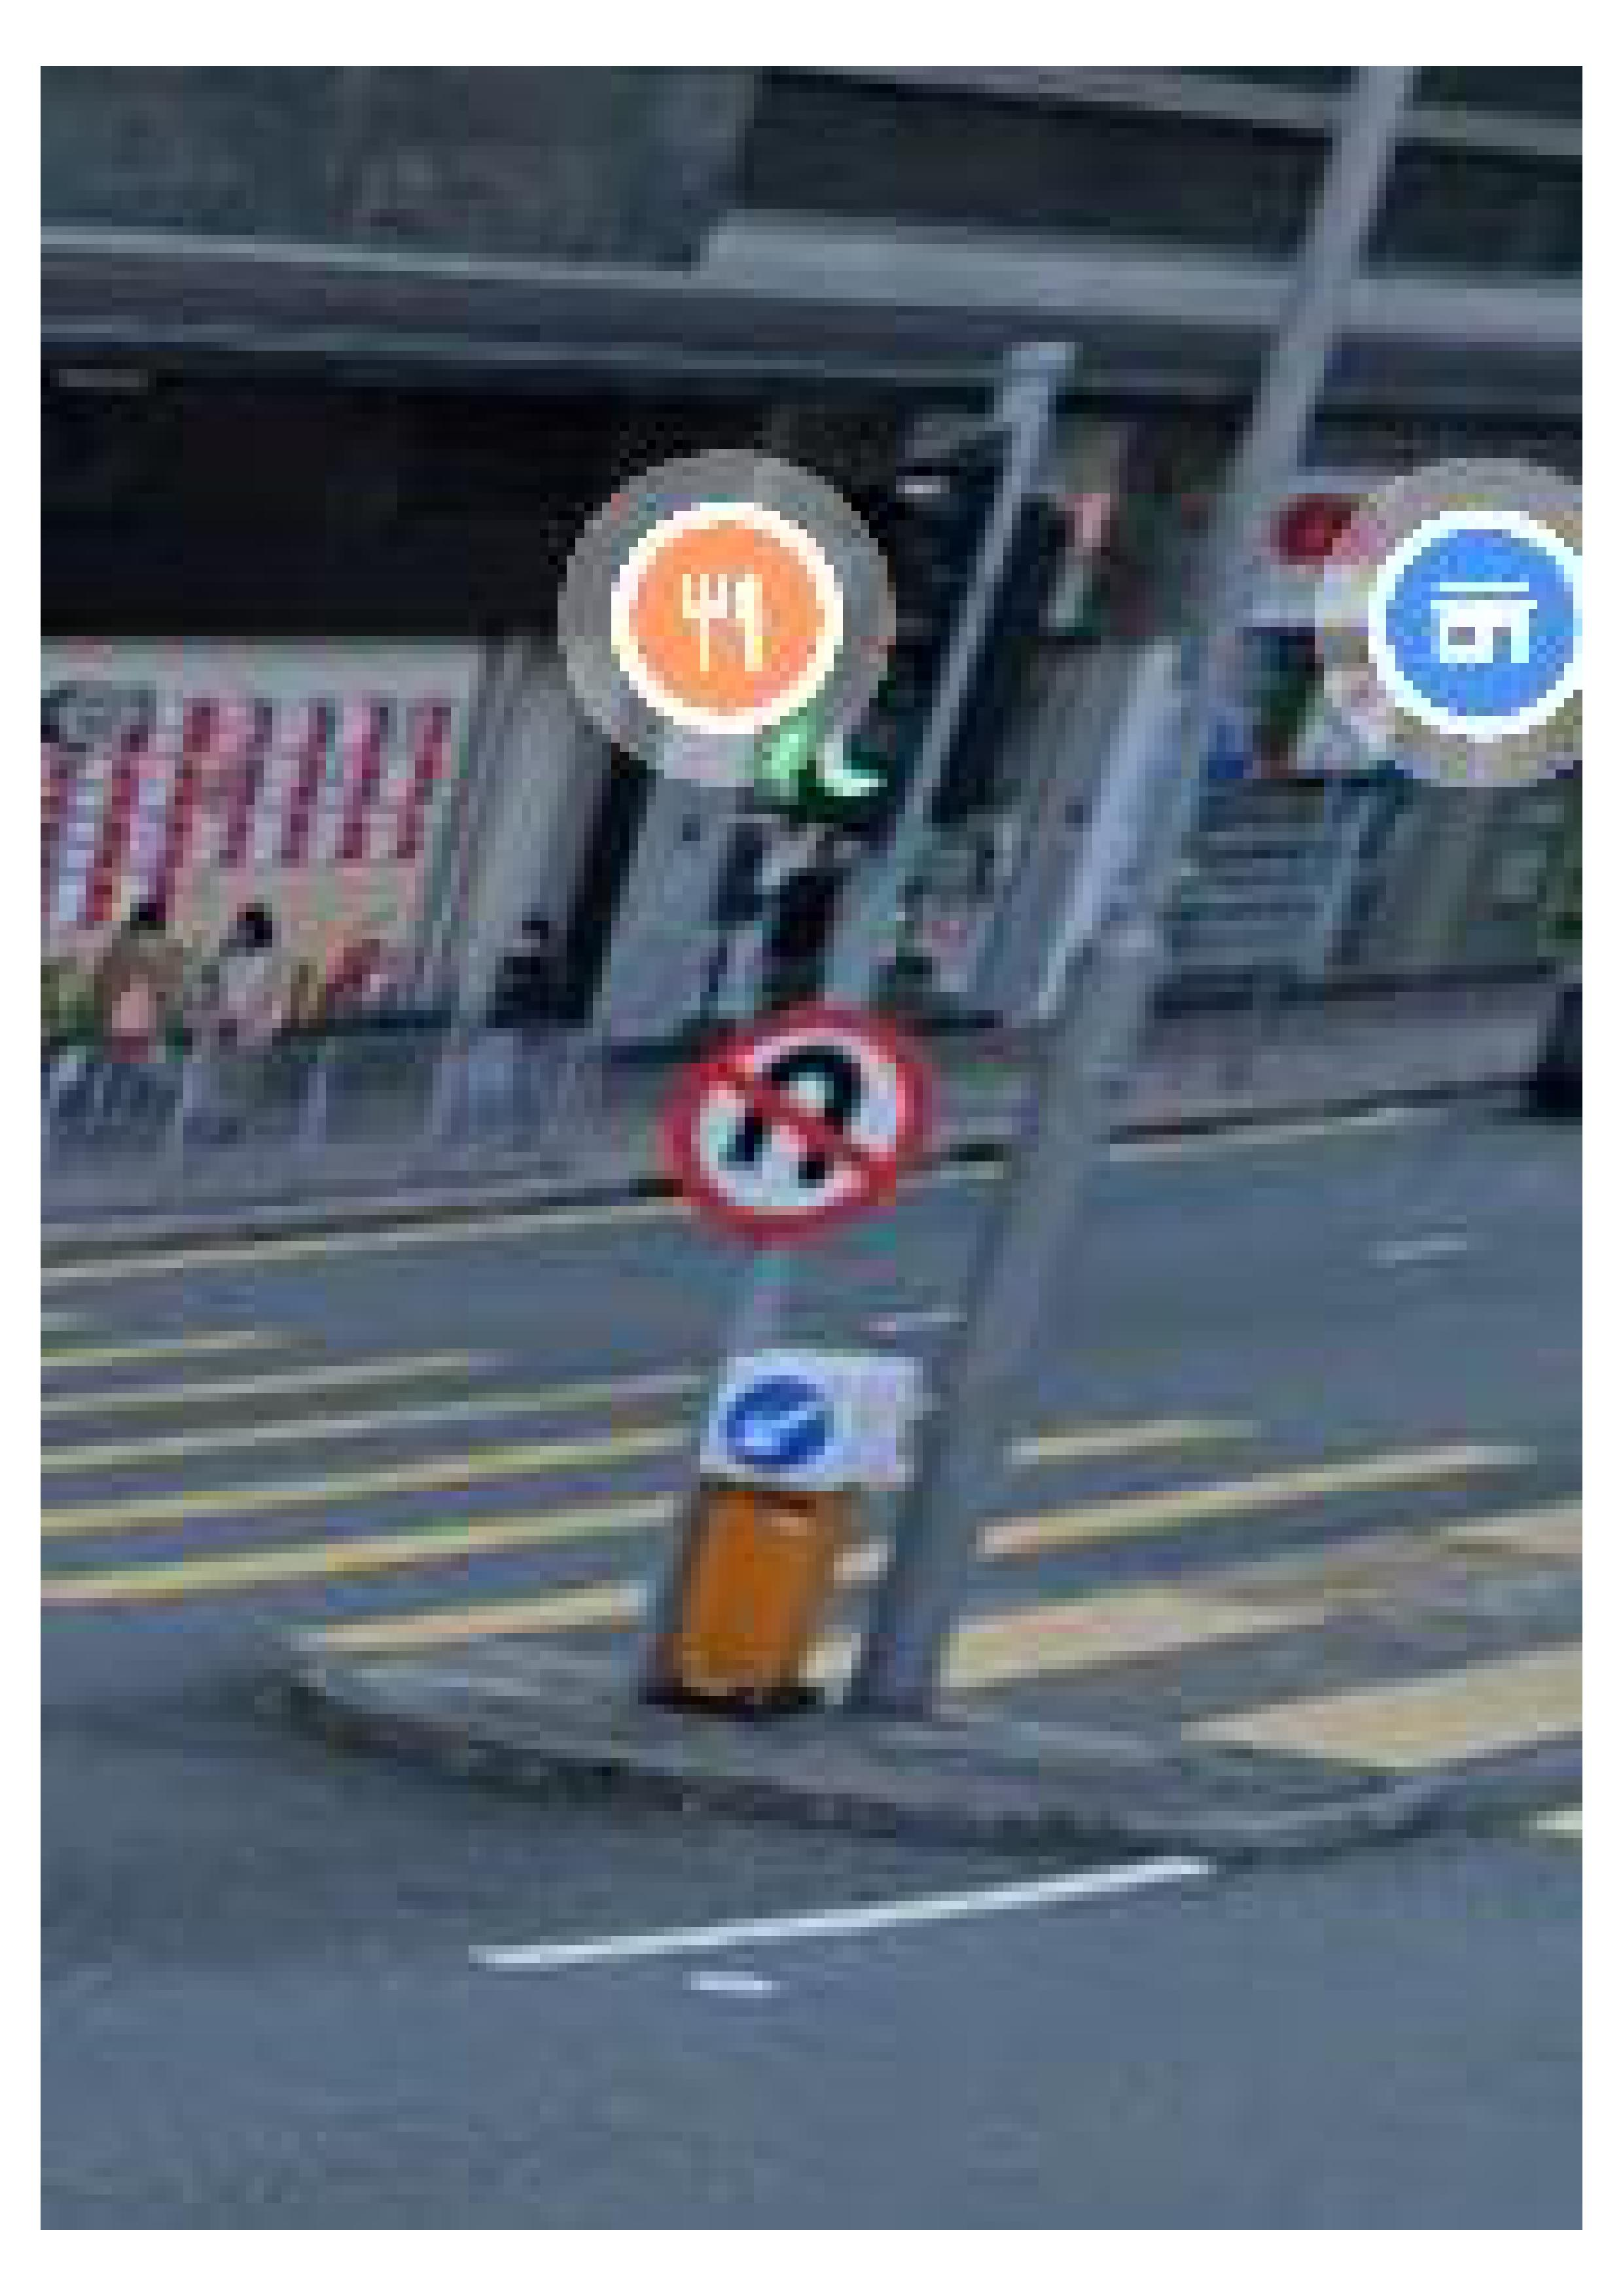No Uturn: (671, 992, 927, 1246)
